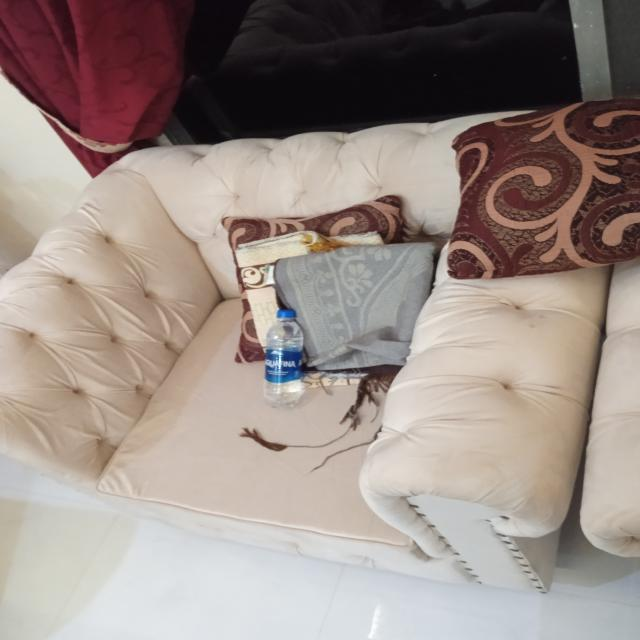Plastic: (260, 303, 308, 411)
